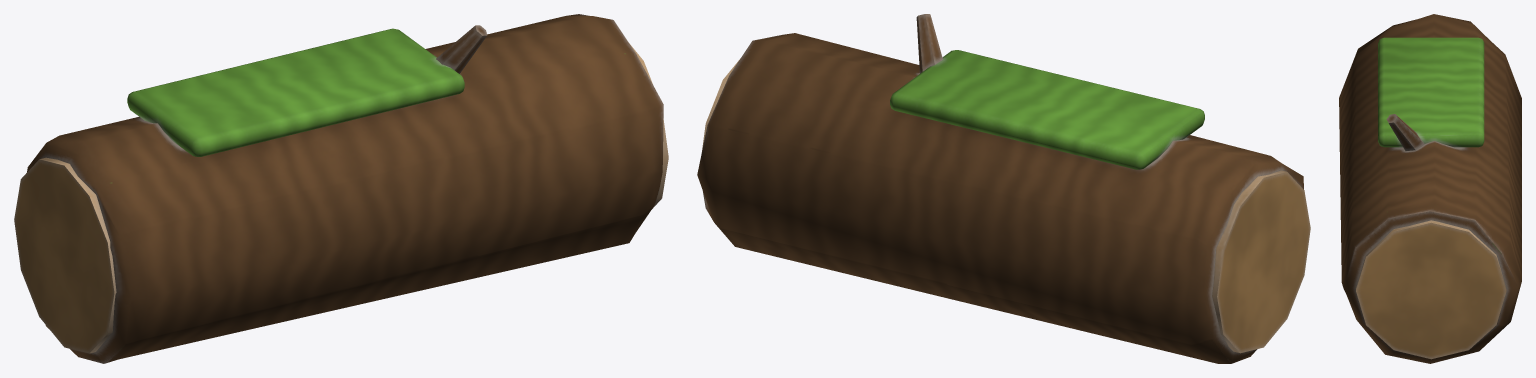
The model's file is en_obstacle_fallen_log.glb.
The picture shows the model from 3 angles, left to right: view 1: azimuth 30°, elevation 25°; view 2: azimuth 150°, elevation 25°; view 3: azimuth 270°, elevation 25°; orthographic projection. The views are drawn at different scales.
Parts seen in each view (by area): view 1: en_obstacle_fallen_log; view 2: en_obstacle_fallen_log; view 3: en_obstacle_fallen_log.
Boxes of the visible parts, left/top/right/bottom form: en_obstacle_fallen_log: left=14, top=14, right=668, bottom=363; en_obstacle_fallen_log: left=697, top=14, right=1310, bottom=363; en_obstacle_fallen_log: left=1339, top=14, right=1521, bottom=363.
Bounding box in the file's own units: 2.44 × 1.1 × 0.9285.
Materials: 3 (3 with a texture image).
